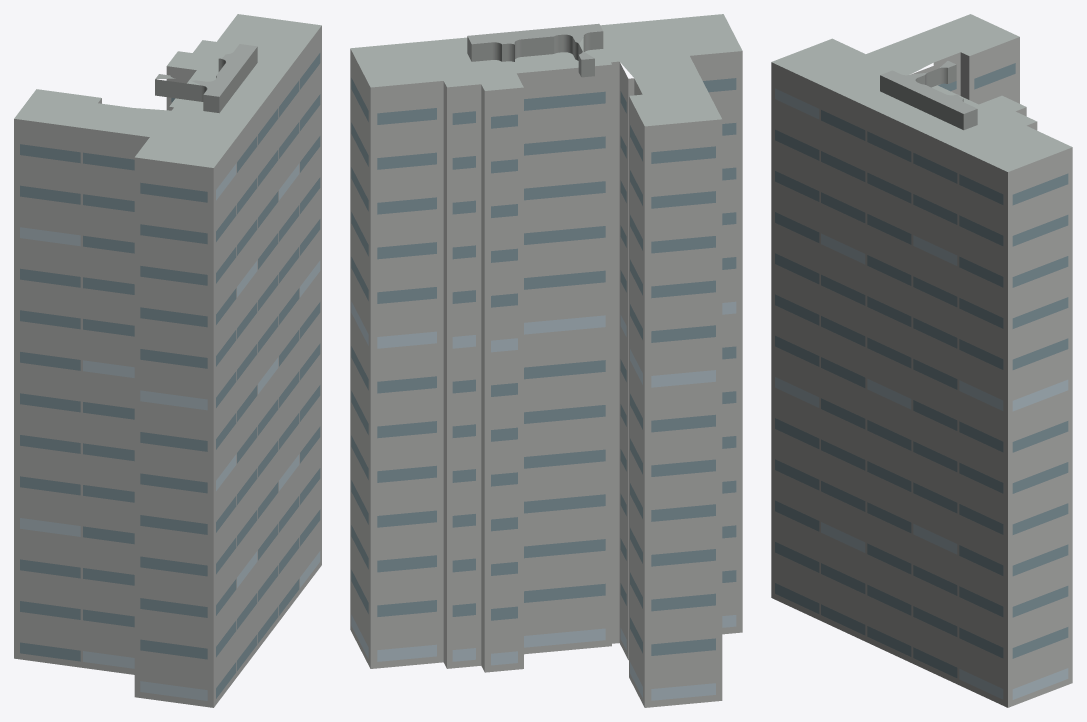
The model's file is fallback-gaepo-xi-presidence-422.glb.
3 views of the same model, side by side, from view 1: azimuth 30°, elevation 25°; view 2: azimuth 150°, elevation 25°; view 3: azimuth 270°, elevation 25° (orthographic). The views are drawn at different scales.
Parts seen in each view (by area): view 1: fallback-gaepo-xi-presidence-422; view 2: fallback-gaepo-xi-presidence-422; view 3: fallback-gaepo-xi-presidence-422.
Part boxes in pixels (left/top/right/bottom): fallback-gaepo-xi-presidence-422: left=14, top=14, right=321, bottom=707; fallback-gaepo-xi-presidence-422: left=350, top=14, right=742, bottom=707; fallback-gaepo-xi-presidence-422: left=771, top=14, right=1072, bottom=707.
Bounding box in the file's own units: 50.21 × 81.7 × 40.45.
